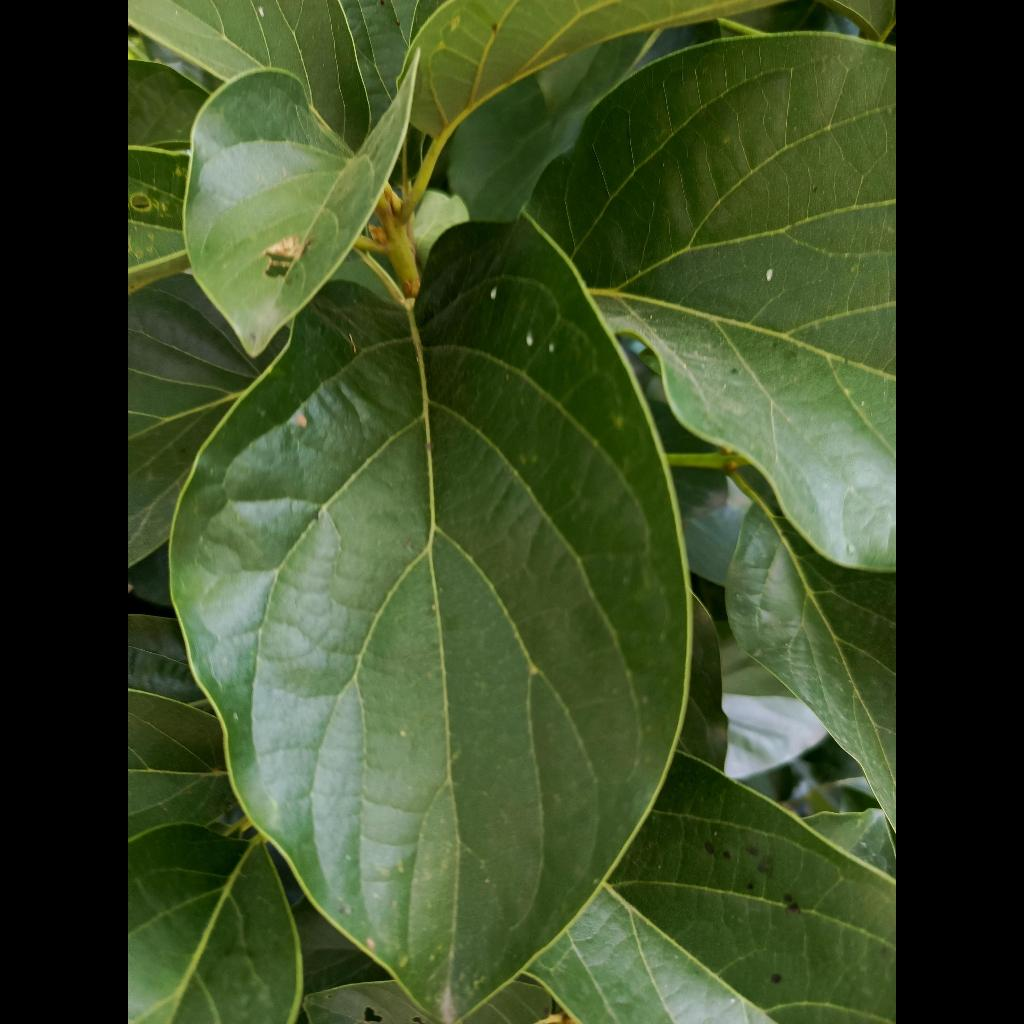hoja_sana: (170, 219, 689, 1024)
